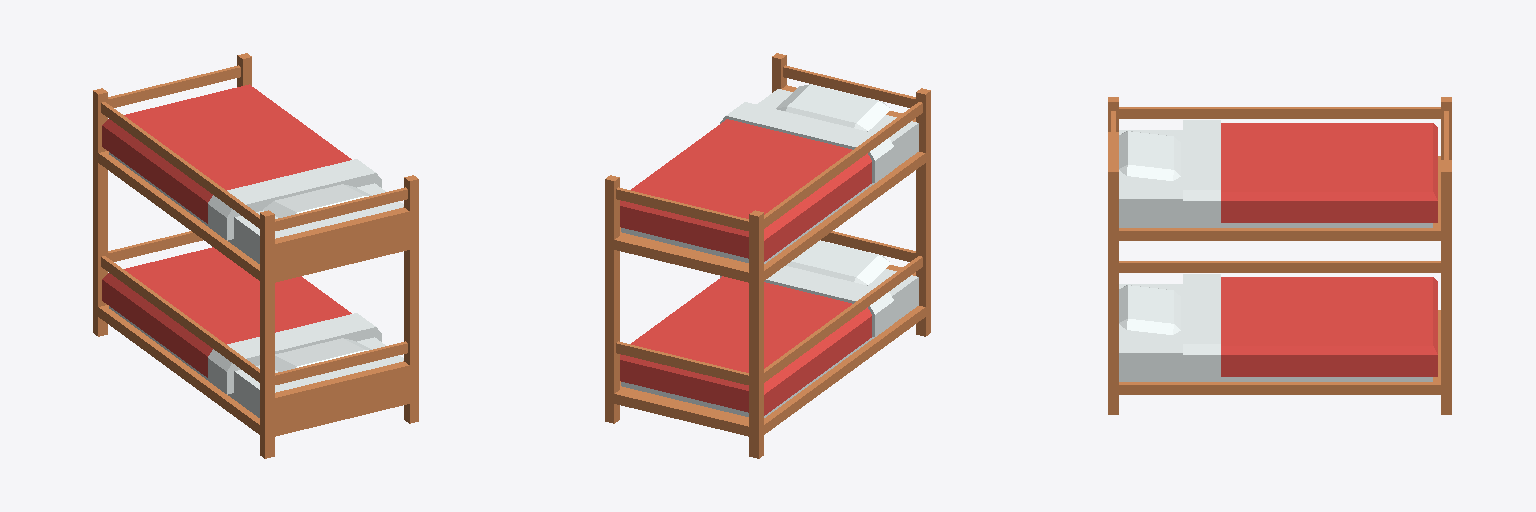
File: bedBunk.obj
3 renders of one model, left to right at view 1: azimuth 30°, elevation 25°; view 2: azimuth 150°, elevation 25°; view 3: azimuth 270°, elevation 25°, orthographic.
Visible parts, largest first — view 1: bedBunk, coverTop, coverBottom, pillowTop, pillowBottom; view 2: bedBunk, coverTop, coverBottom, pillowTop, pillowBottom; view 3: bedBunk, coverBottom, coverTop, pillowTop, pillowBottom.
Boxes of the visible parts, x1,y1,x2,y2 form: bedBunk: [93, 53, 418, 458]; coverTop: [102, 84, 381, 240]; coverBottom: [102, 247, 381, 394]; pillowTop: [263, 184, 371, 217]; pillowBottom: [275, 338, 371, 371]; bedBunk: [605, 53, 930, 458]; coverTop: [620, 102, 893, 261]; coverBottom: [620, 266, 893, 415]; pillowTop: [776, 84, 890, 131]; pillowBottom: [786, 241, 890, 285]; bedBunk: [1108, 97, 1451, 414]; coverBottom: [1183, 274, 1437, 377]; coverTop: [1183, 120, 1437, 223]; pillowTop: [1119, 131, 1180, 180]; pillowBottom: [1119, 285, 1180, 334].
Bounding box in the file's own units: 0.571 × 0.85 × 1.09.